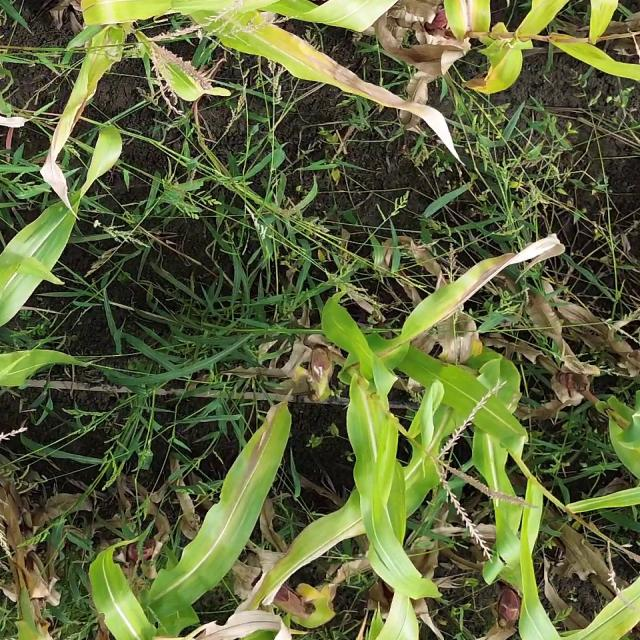northern-leaf-blight: (216, 26, 437, 140), (374, 241, 530, 368), (26, 51, 124, 212)
